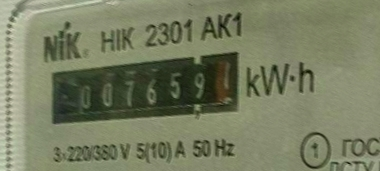0: (79, 81, 94, 110), (100, 81, 115, 108)
1: (219, 61, 233, 93)
5: (167, 70, 184, 103)
6: (144, 75, 159, 107)
7: (121, 76, 137, 109)
9: (191, 68, 208, 103)
screen: (35, 34, 261, 142)
